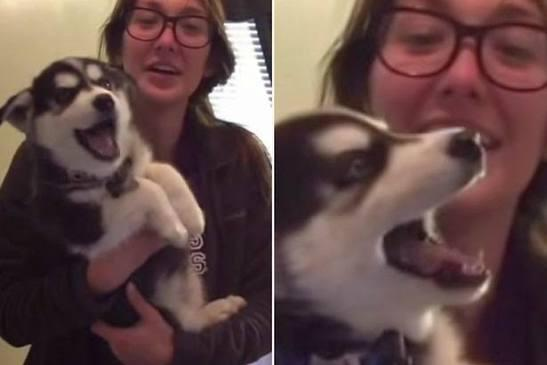puppy-dog: (0, 55, 247, 335), (275, 107, 497, 365)
